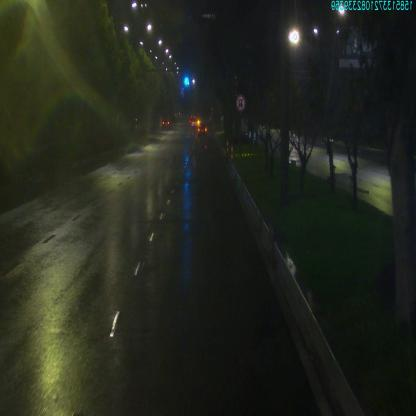traffic-light: (182, 75, 191, 87)
